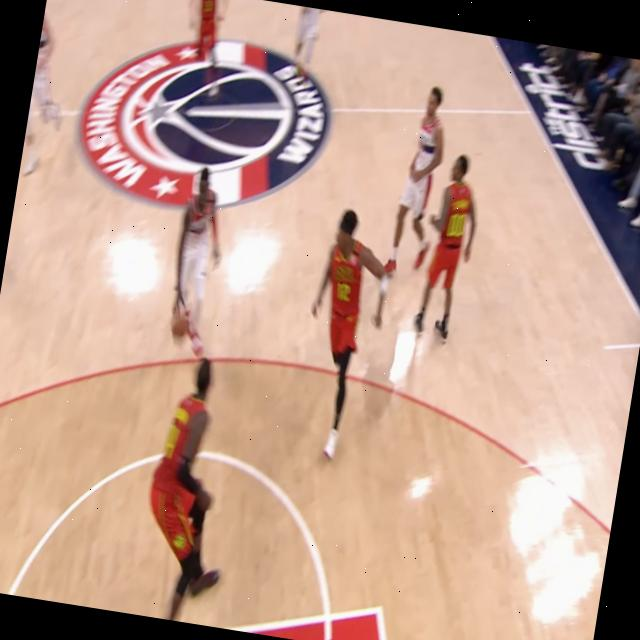no foul: (271, 50, 524, 485)
